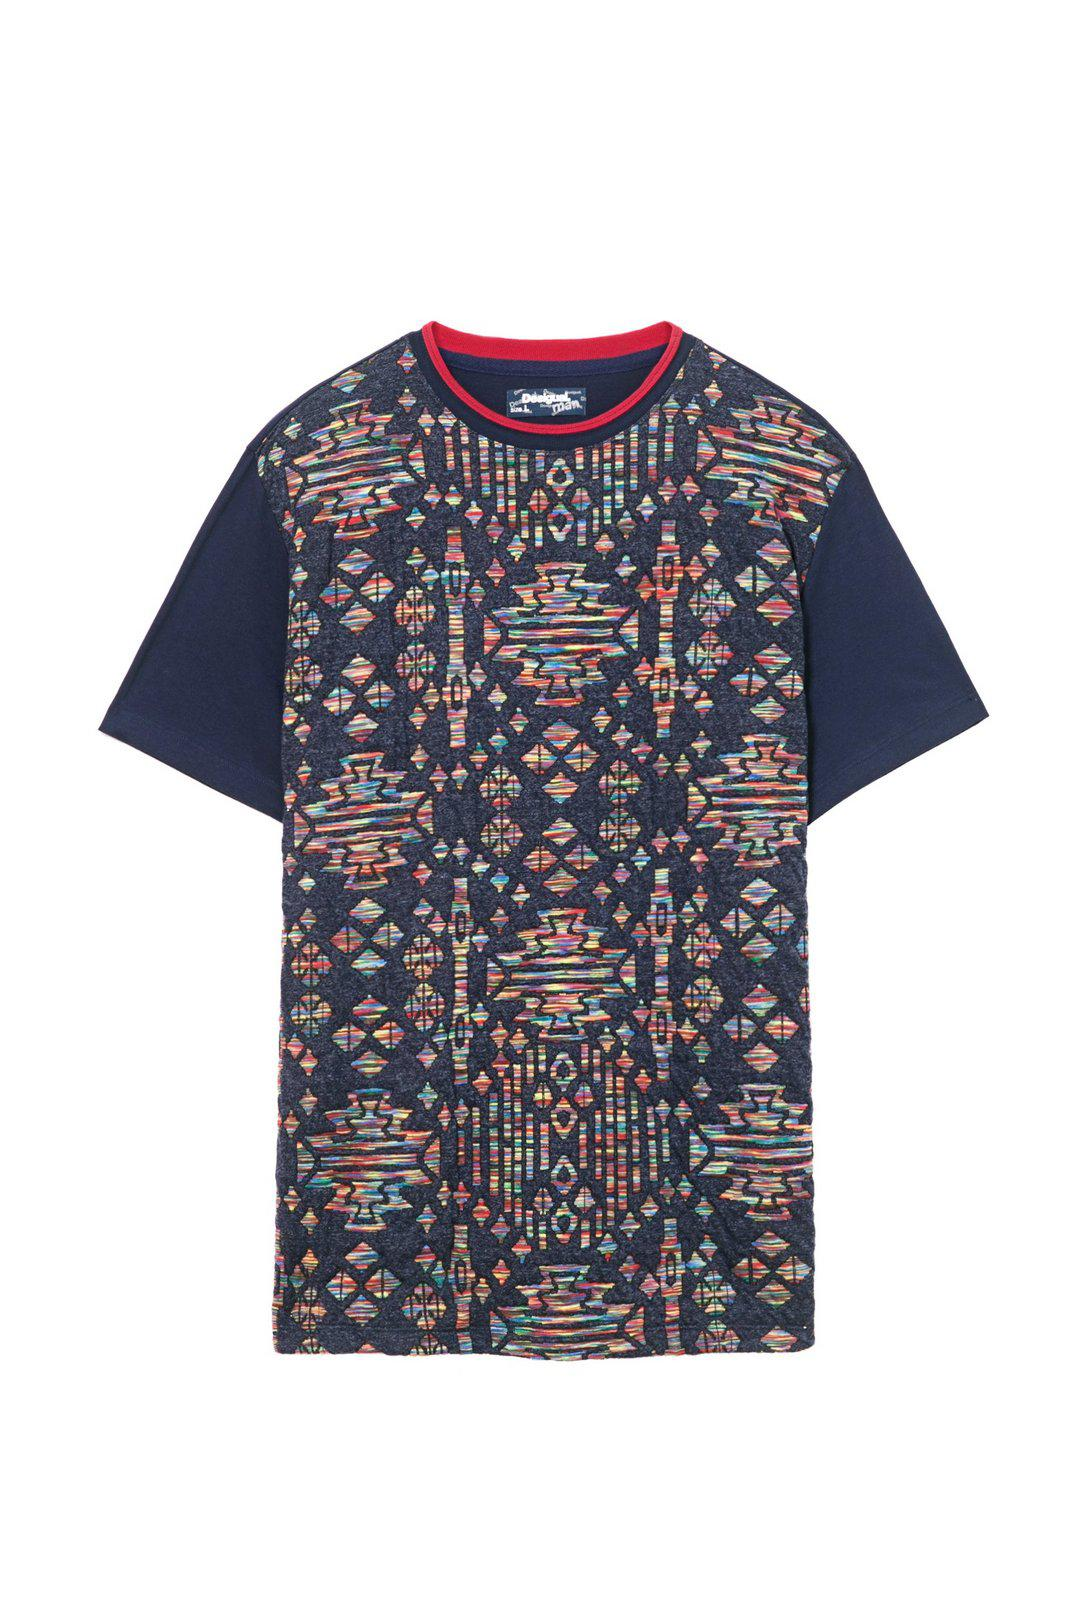teeshirt: (81, 295, 1058, 1397)
